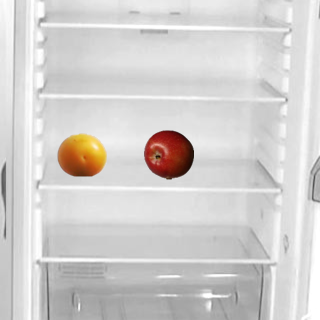Apple Braeburn: (143, 129, 193, 179)
Cherry Wax Yellow: (56, 129, 106, 179)
